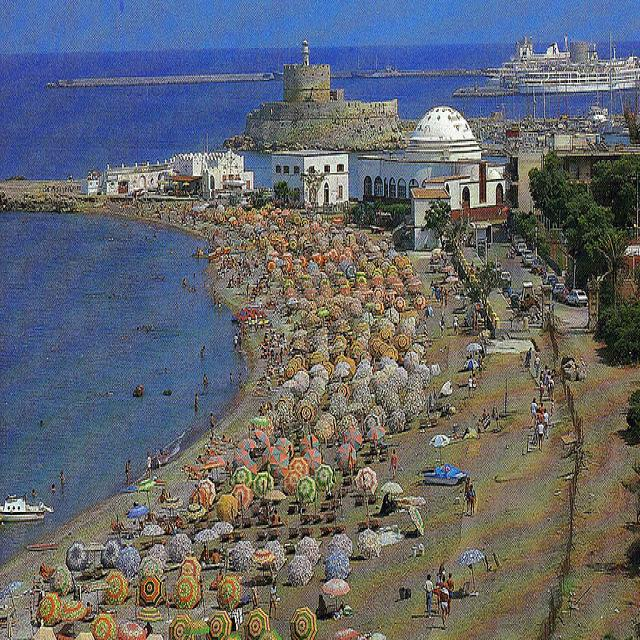Vehicle: (566, 288, 588, 307), (530, 258, 546, 276), (554, 288, 571, 304), (542, 273, 558, 286), (552, 284, 566, 298), (516, 242, 528, 254), (521, 250, 533, 262), (500, 272, 511, 283)
